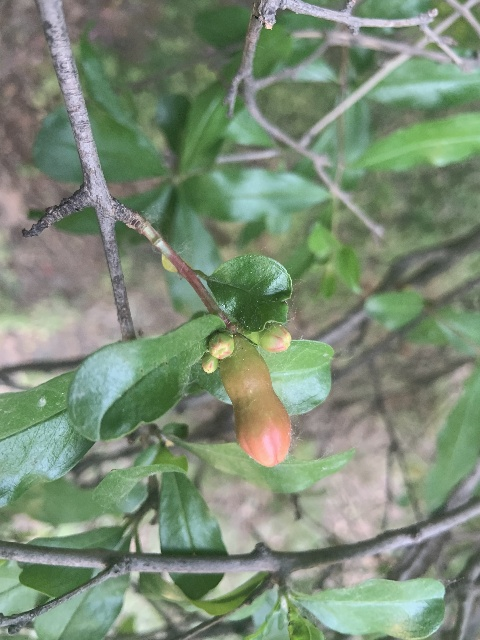bud: (222, 340, 290, 467), (246, 323, 291, 353), (208, 330, 233, 359), (200, 353, 218, 374)
